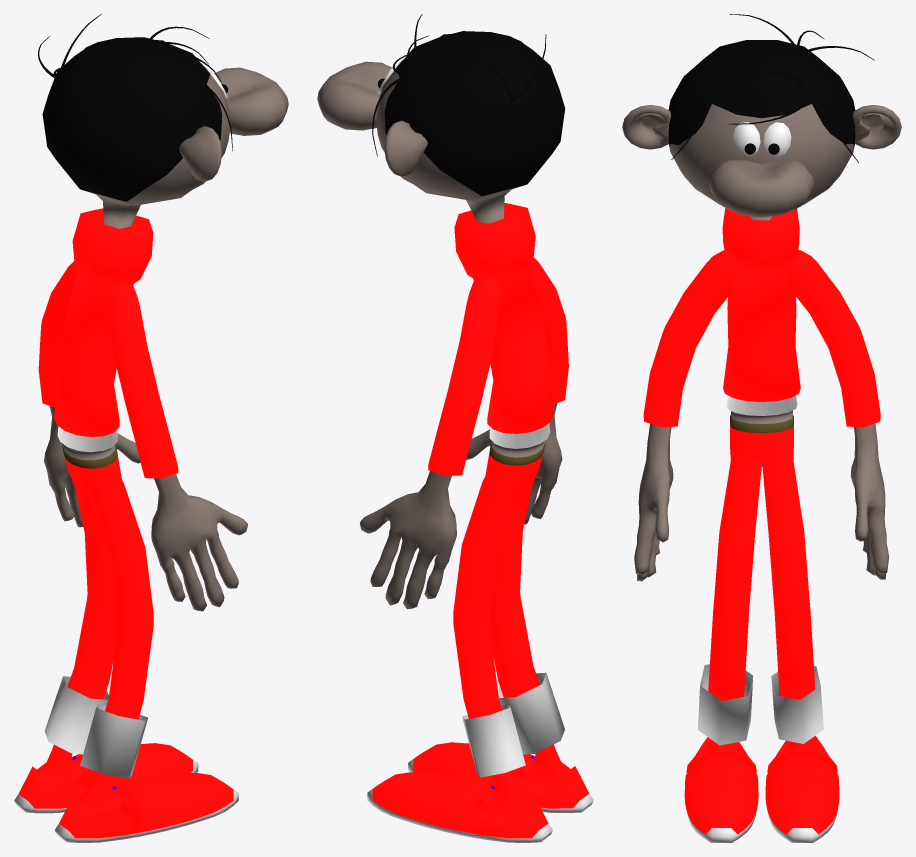
The model's file is spectator_red_medium.dae.
3 renders of one model, left to right at view 1: azimuth 30°, elevation 25°; view 2: azimuth 150°, elevation 25°; view 3: azimuth 270°, elevation 25°, orthographic.
Visible parts, largest first — view 1: Spectator; view 2: Spectator; view 3: Spectator.
Boxes of the visible parts, box(x1,y1,x2,y2) form: Spectator: box(14, 14, 288, 842); Spectator: box(317, 14, 593, 842); Spectator: box(622, 14, 901, 842).
Size of the model in its own units: 0.5277 by 0.5296 by 1.6.
